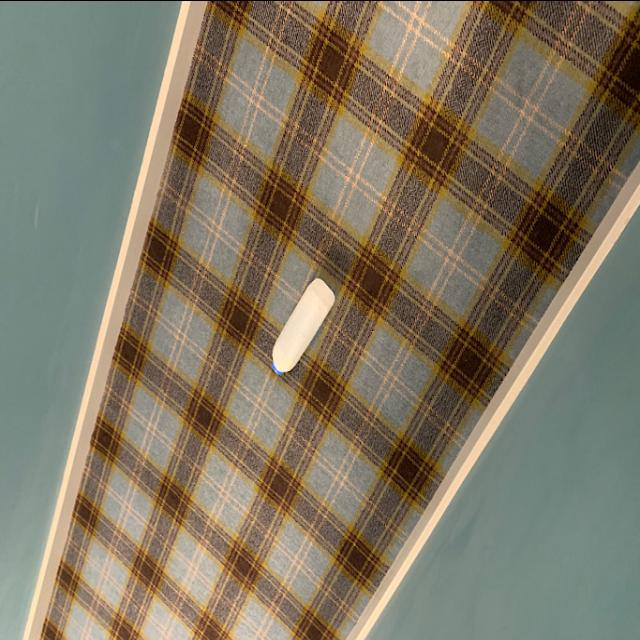HDPEM: (272, 272, 334, 376)
